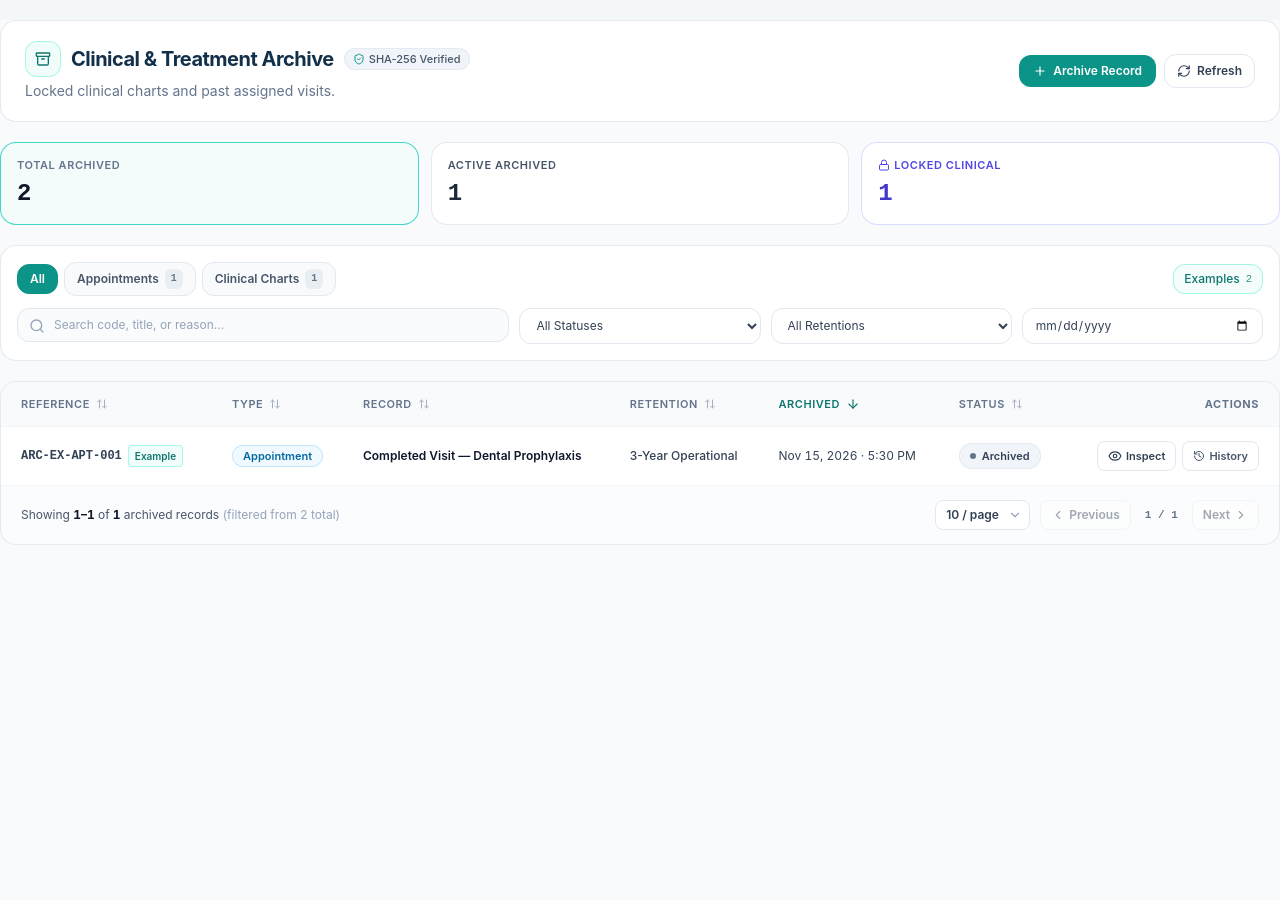
ArchiveCenterPage (Role-Aware Compliance Archive Vault) › surfaces tamper warning when snapshot SHA-256 verification fails and locks clinical retention for Dentists
Expected: the heading "Clinical & Treatment Archive" is shown, [71,45,334,73]
Expected: the text "ARC-EX-APT-001" is shown, [21,448,122,464]
# Tampered snapshot triggers Integrity Check Warning banner
Click the button with aria-label "Inspect ARC-EX-APT-001" at (1137, 456), box [1097,440,1176,470]
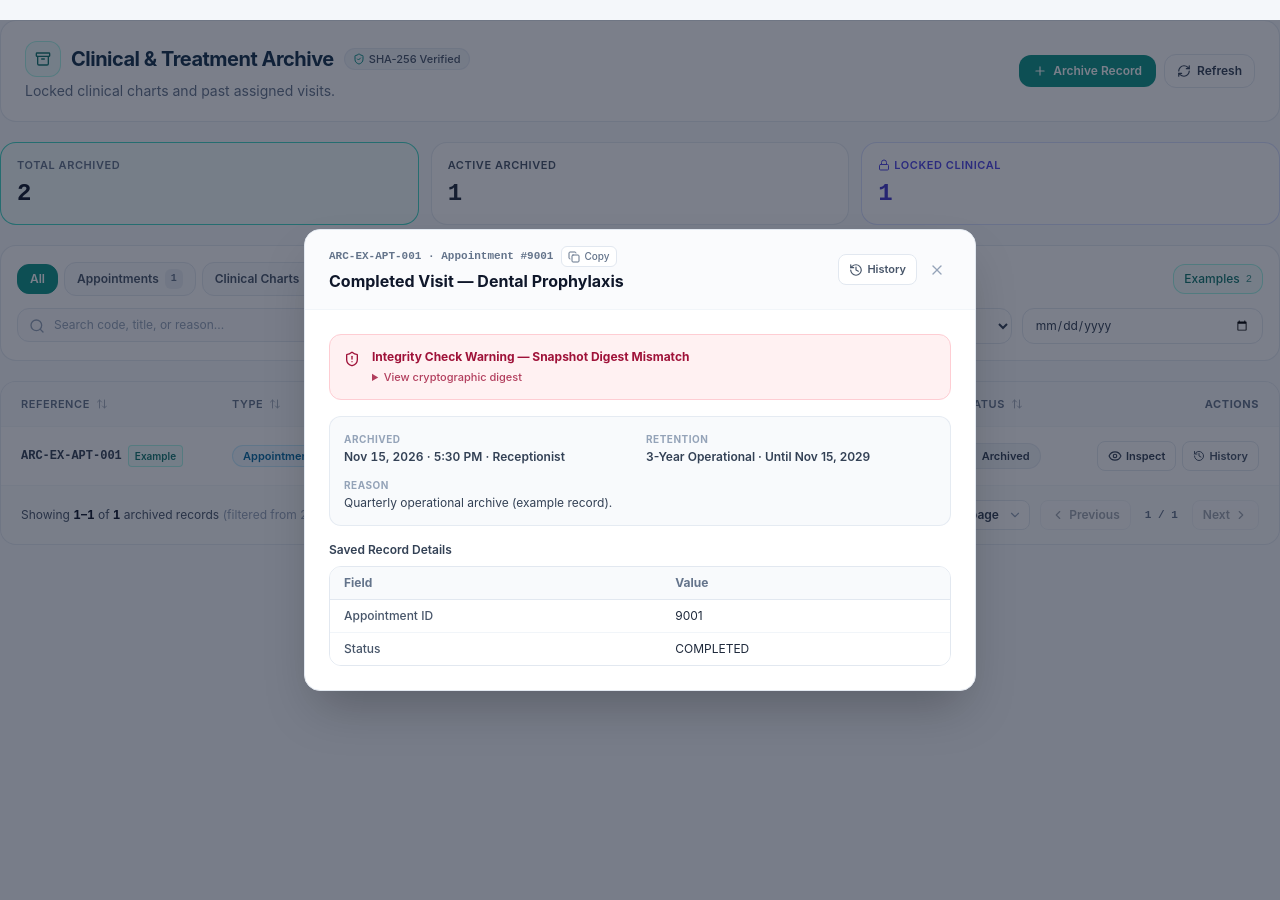
Result: the text "Integrity Check Warning — Snapshot Digest Mismatch" is shown at [372,349,689,364]
Click the button named "Close snapshot inspector" at (937, 270), box [923,256,951,284]
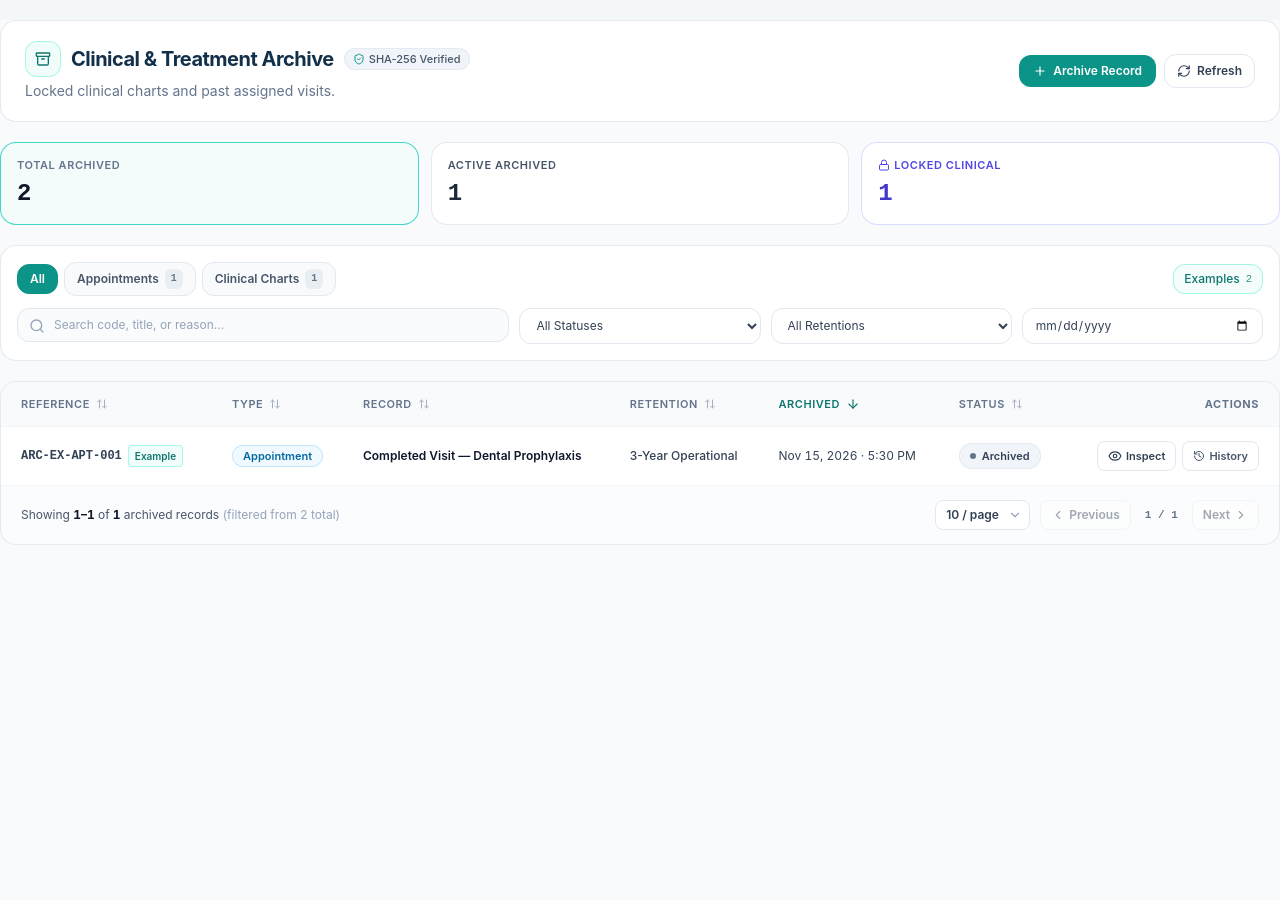
# Selecting Clinical Chart in Archive modal locks retention policy to CLINICAL_7Y
Click the button "Archive Record" at (1088, 71), box [1019,55,1156,87]
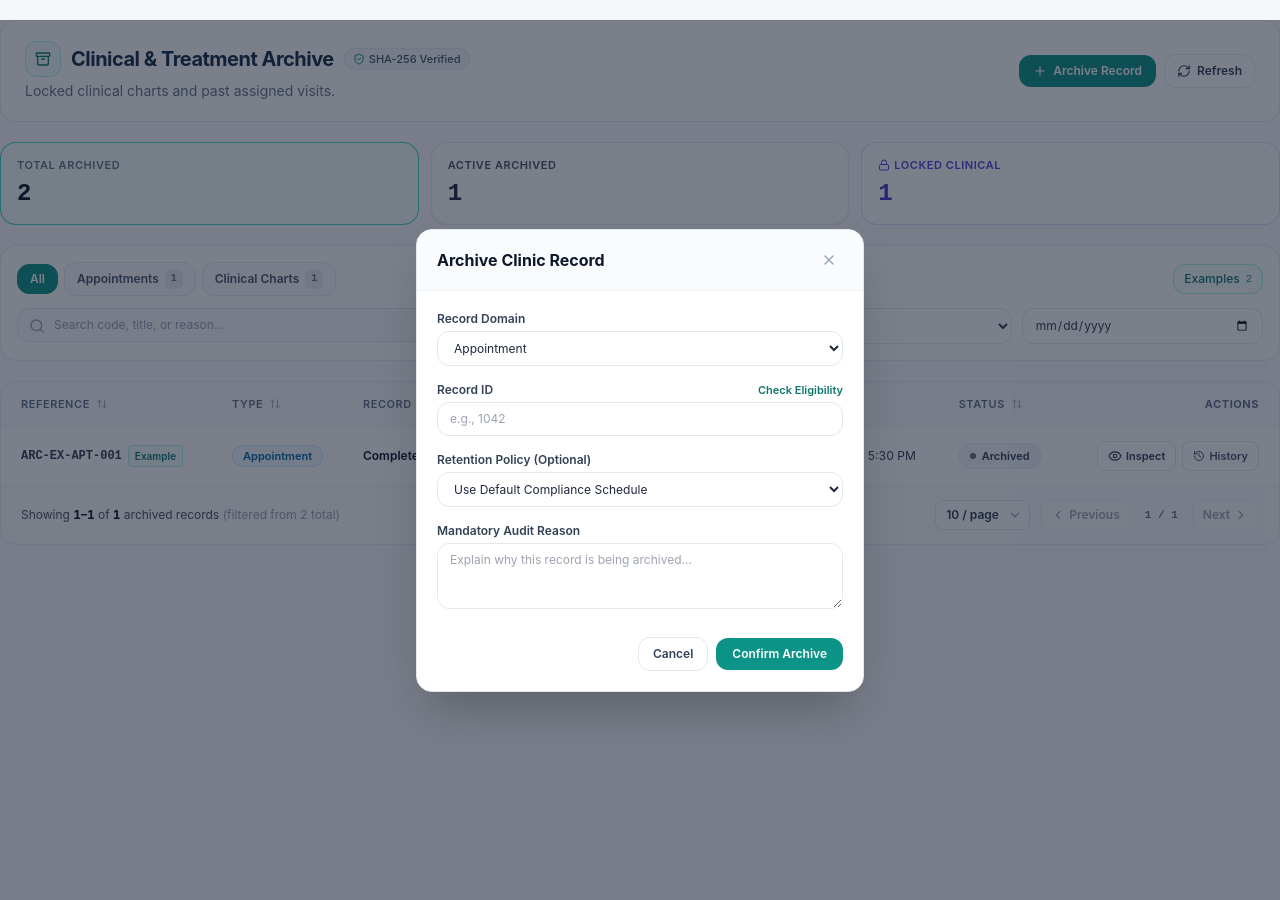
Select "Clinical Chart" in the dropdown labelled "Record Domain" at (640, 348), box [437,330,843,366]
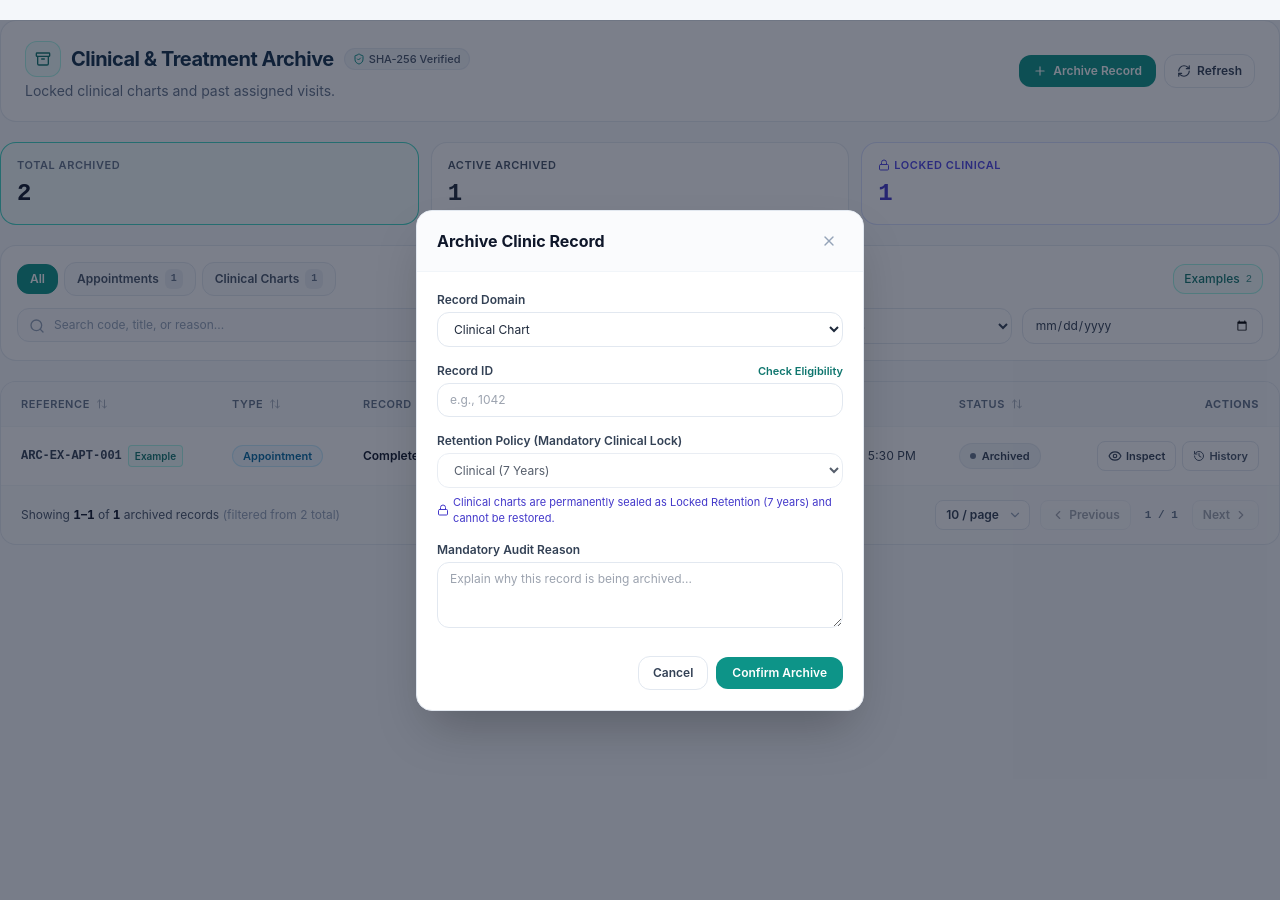
Result: the dropdown labelled "Retention Policy (Mandatory Clinical Lock)" is disabled at [437,452,843,488]
Result: the text "permanently sealed as Locked Retention" is shown at [453,494,832,524]
